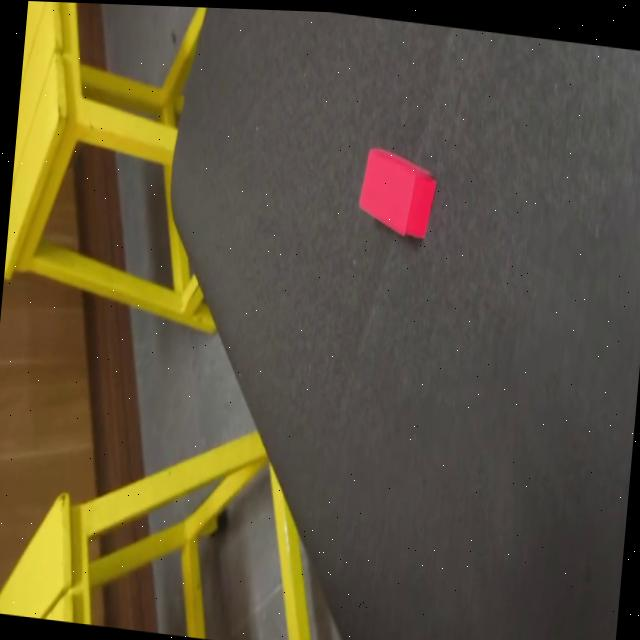red block: (354, 146, 437, 242)
